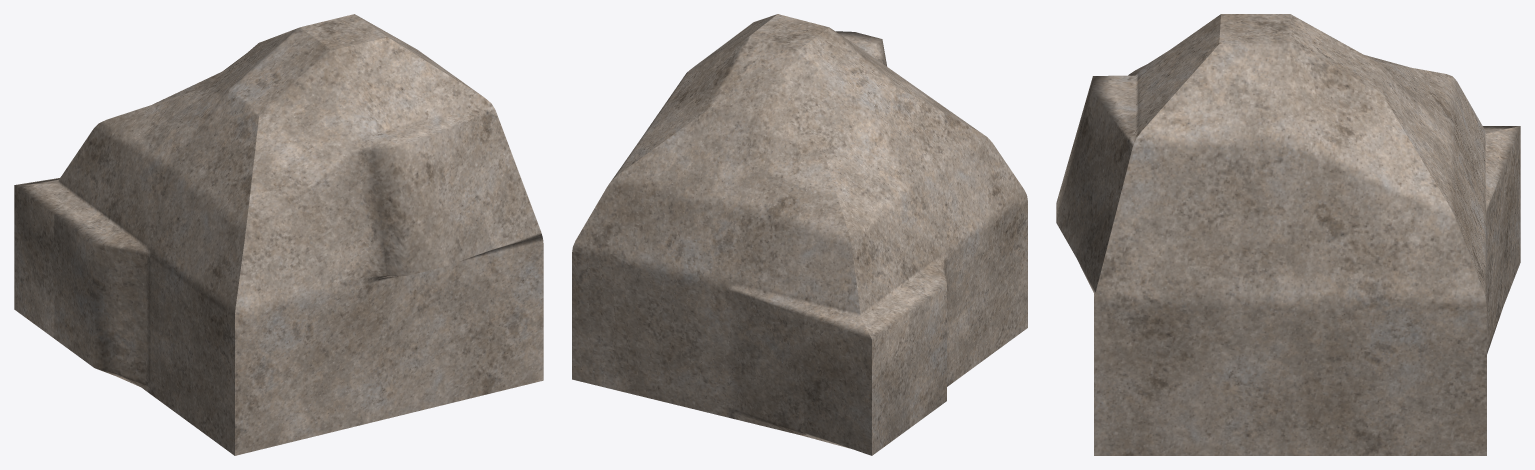
File: rockGLB.glb
3 views of the same model, side by side, from view 1: azimuth 30°, elevation 25°; view 2: azimuth 150°, elevation 25°; view 3: azimuth 270°, elevation 25° (orthographic). The views are drawn at different scales.
Visible parts, largest first — view 1: rock1; view 2: rock1; view 3: rock1.
Part boxes in pixels (x1=…): rock1: x1=14, y1=14, x2=543, y2=455; rock1: x1=572, y1=14, x2=1027, y2=455; rock1: x1=1056, y1=14, x2=1520, y2=455.
Size of the model in its own units: 0.0154 by 0.0143 by 0.0167.
Materials: 1 (1 with a texture image).
